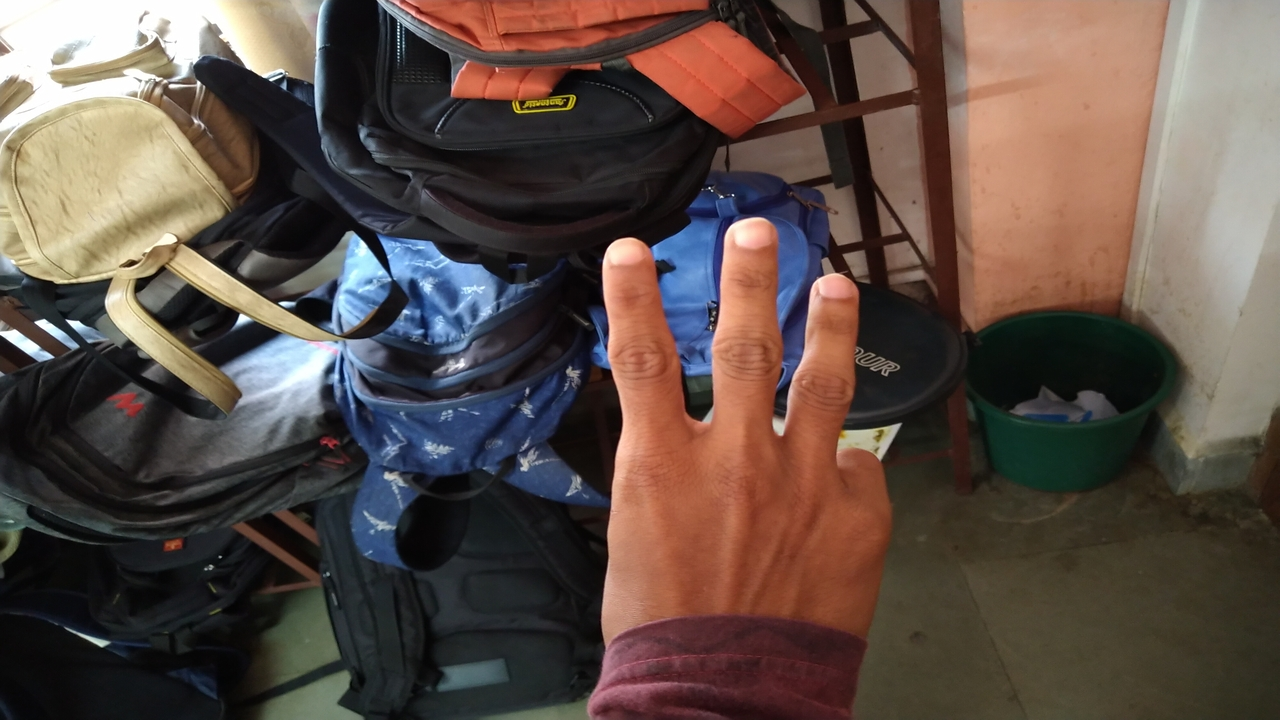fingertip: (596, 230, 662, 296), (720, 212, 780, 272), (804, 264, 864, 324)
